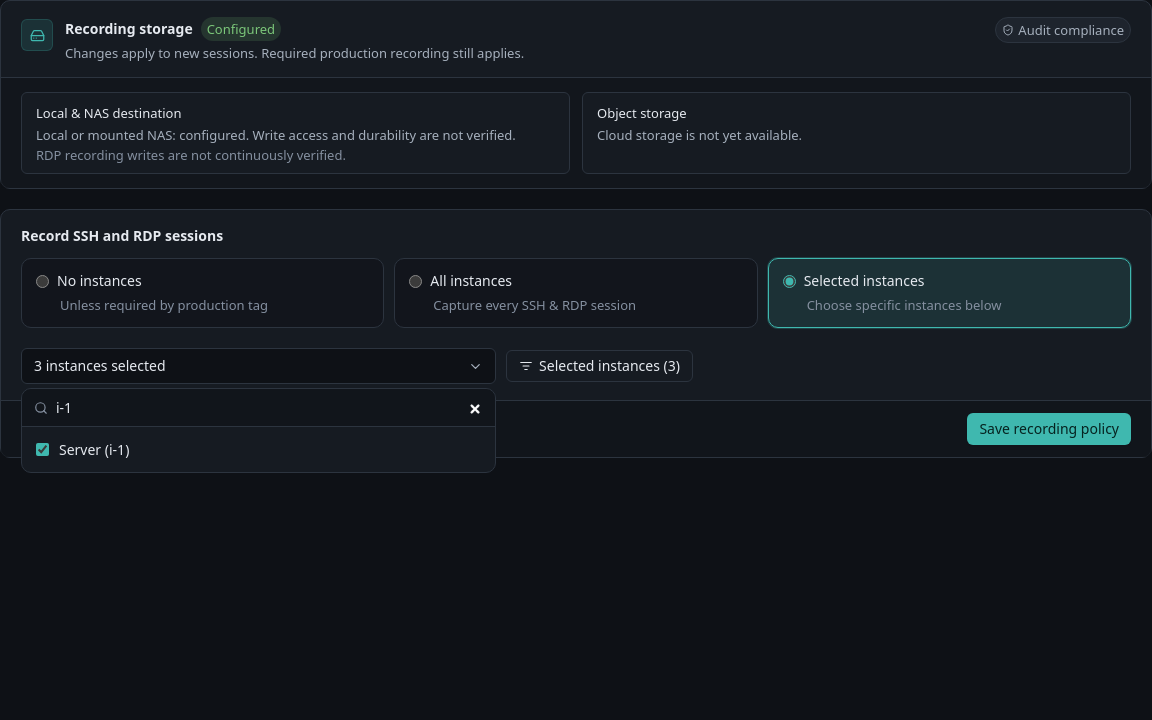
Test: searches by name or ID and manages selections inside Selected instances modal
This screenshot has width=1152, height=720.
Earlier steps of the test are not shown.
Later steps or results of the test are not shown.
Expected: the checkbox labelled "Server (i-1)" is checked, [36,443,49,456]
Replace the text in the search field named "Search instances" with "nothing-matches": (270, 408) [56,397,483,418]
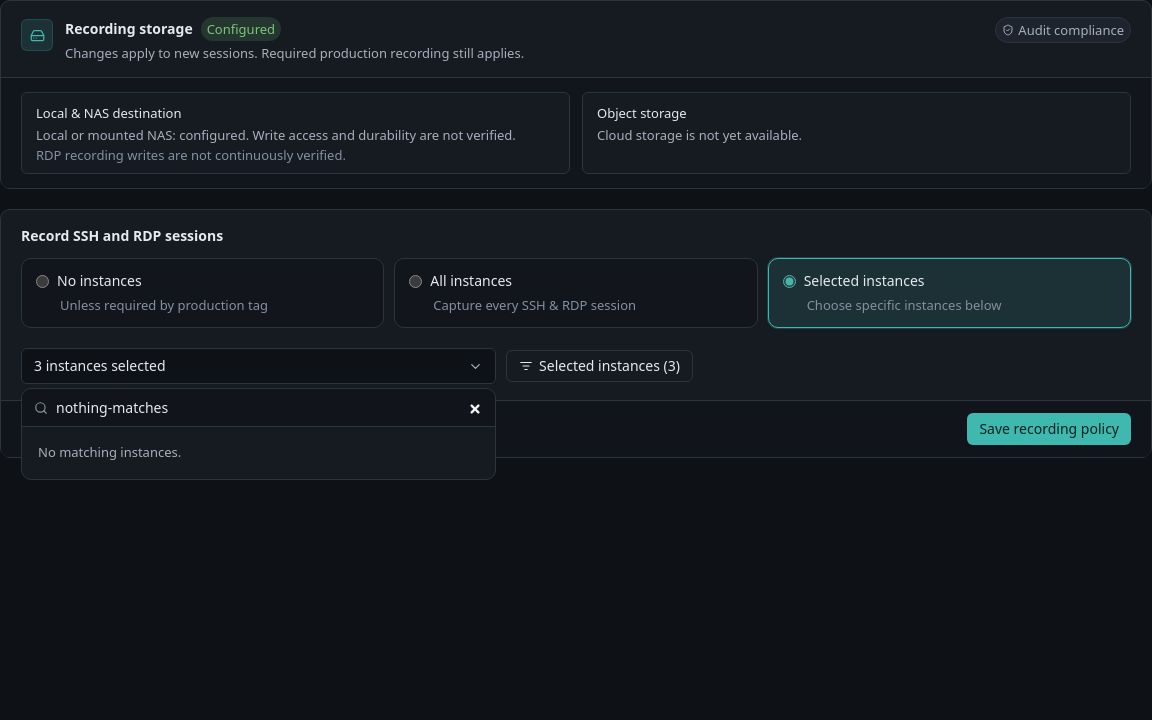
Expected: the text "No matching instances." is shown, [38,443,181,461]
Press Escape in the search field named "Search instances", box [56,397,483,418]
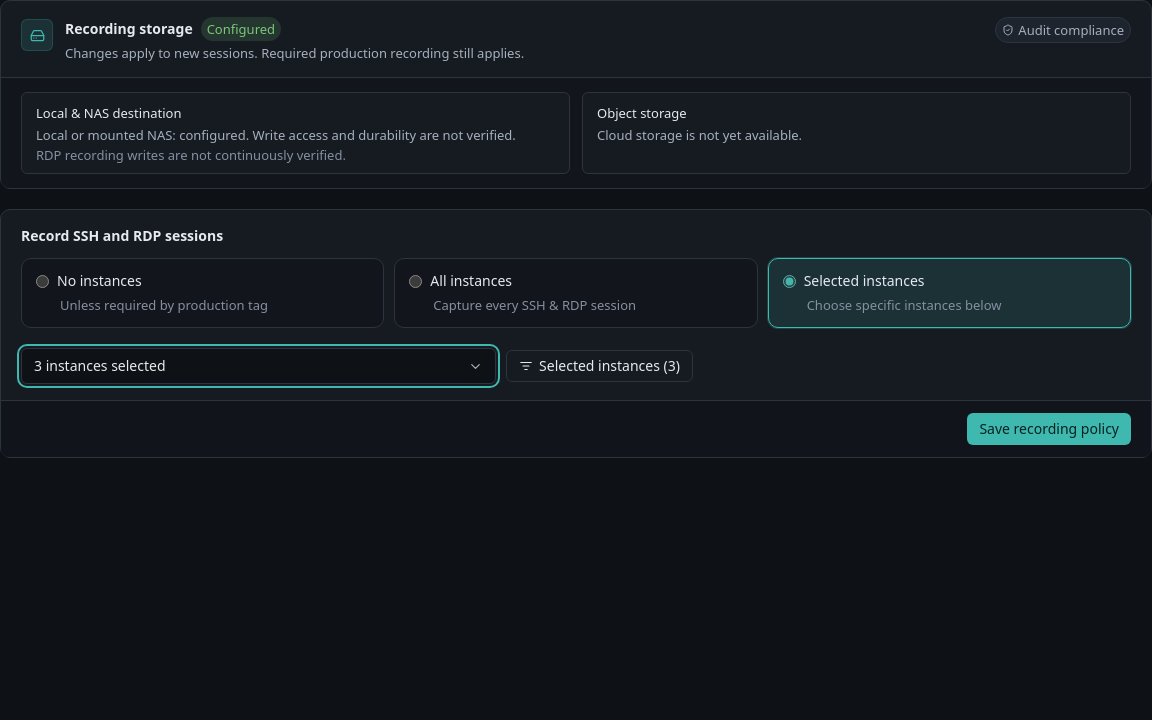
Note: Open Selected instances modal, inspect missing inventory note, remove items, and close via Esc & Close button
Click the button "Selected instances (3)": click(600, 366) [506,350,693,382]
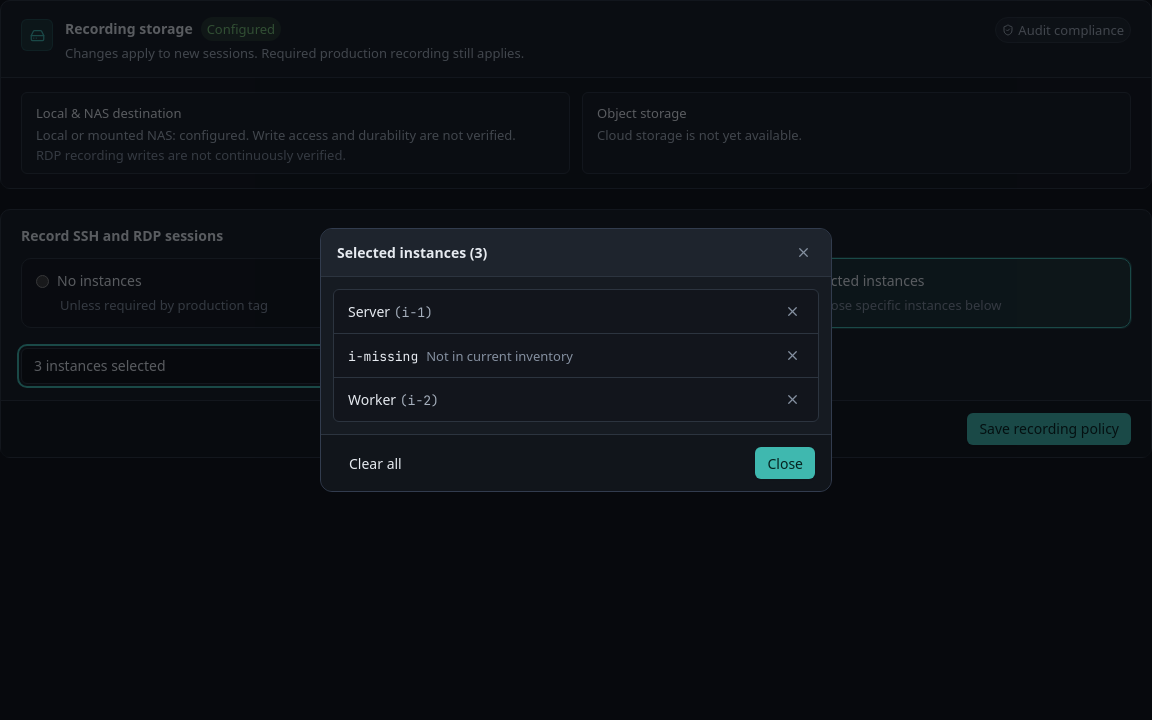
Expected: the text "Server" is shown, [348,302,390,321]
Expected: the text "Worker" is shown, [348,390,396,409]
Expected: the text "i-missing" is shown, [348,348,418,365]
Click the button named "Remove i-missing": click(792, 356) [781,344,804,367]
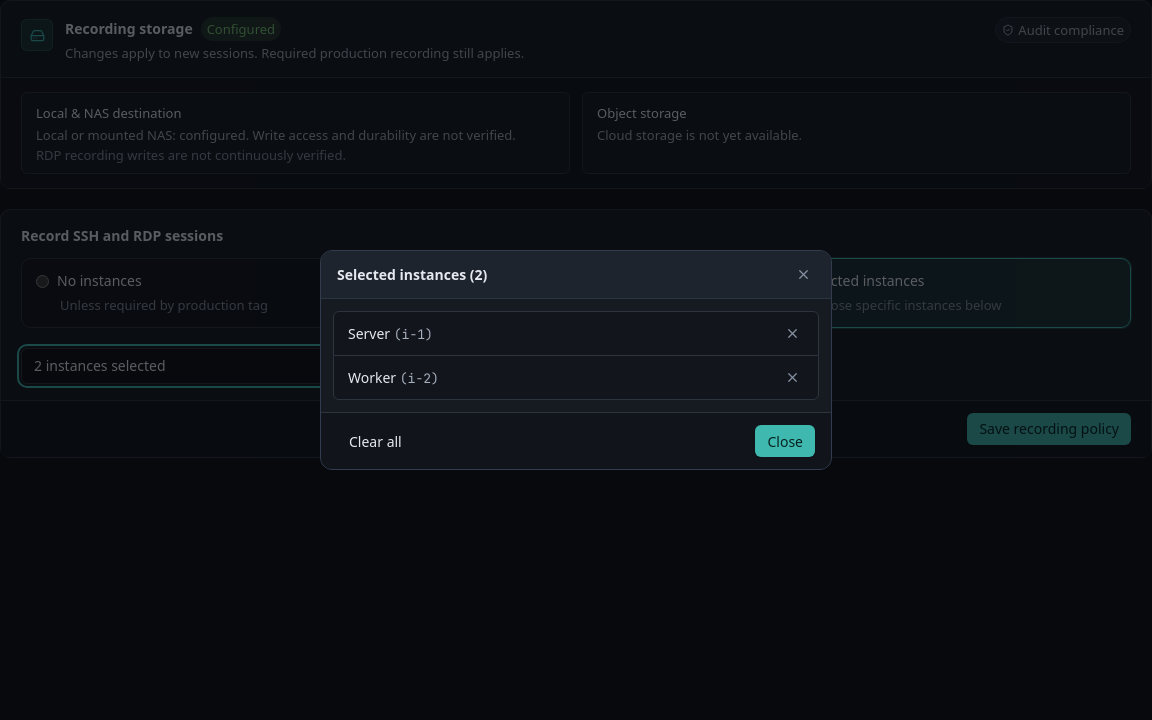
Expected: the text "i-missing" is gone
Click the button named "Remove Server (i-1)": click(792, 334) [781,322,804,345]
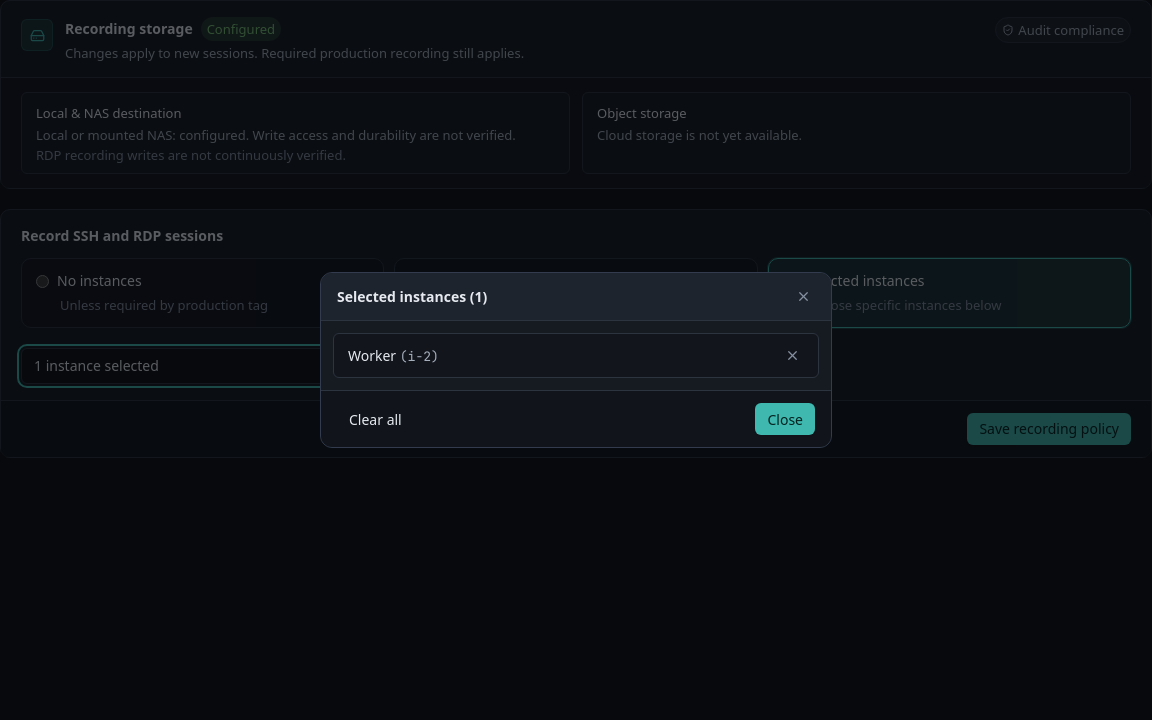
Press Escape in the dialog, box [320,272,832,448]
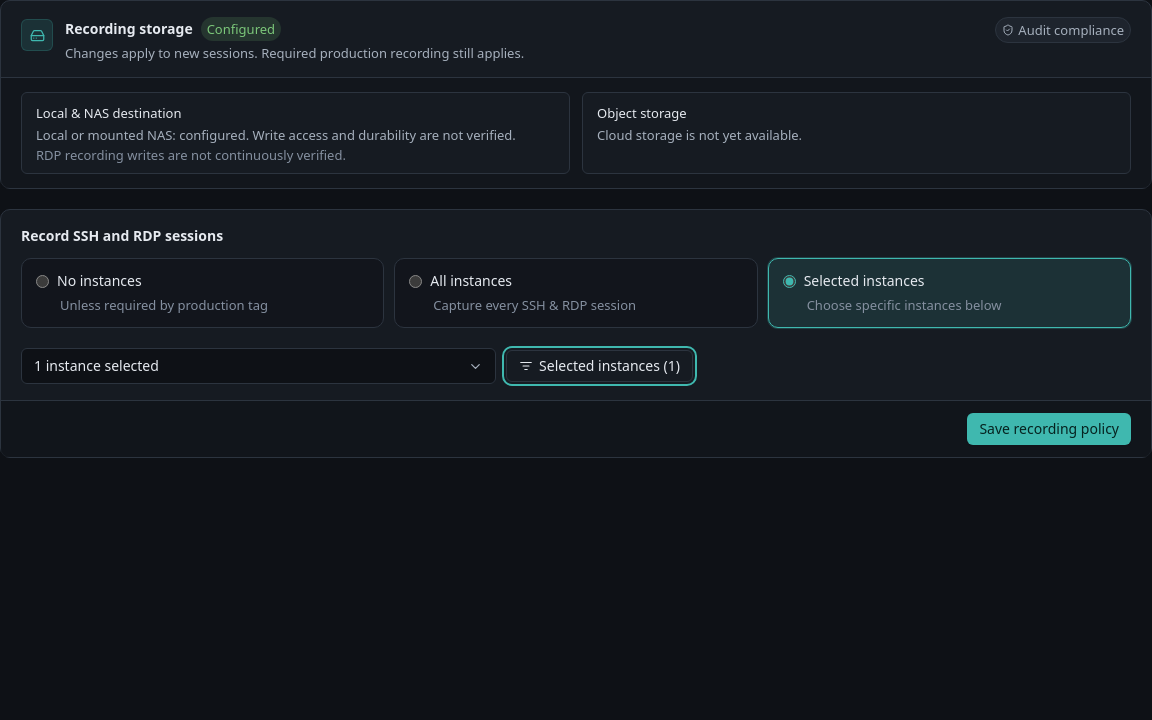
Expected: the dialog is gone
